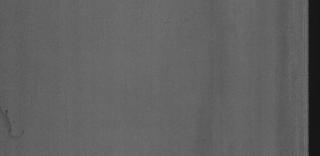water spot: (0, 103, 24, 139)
